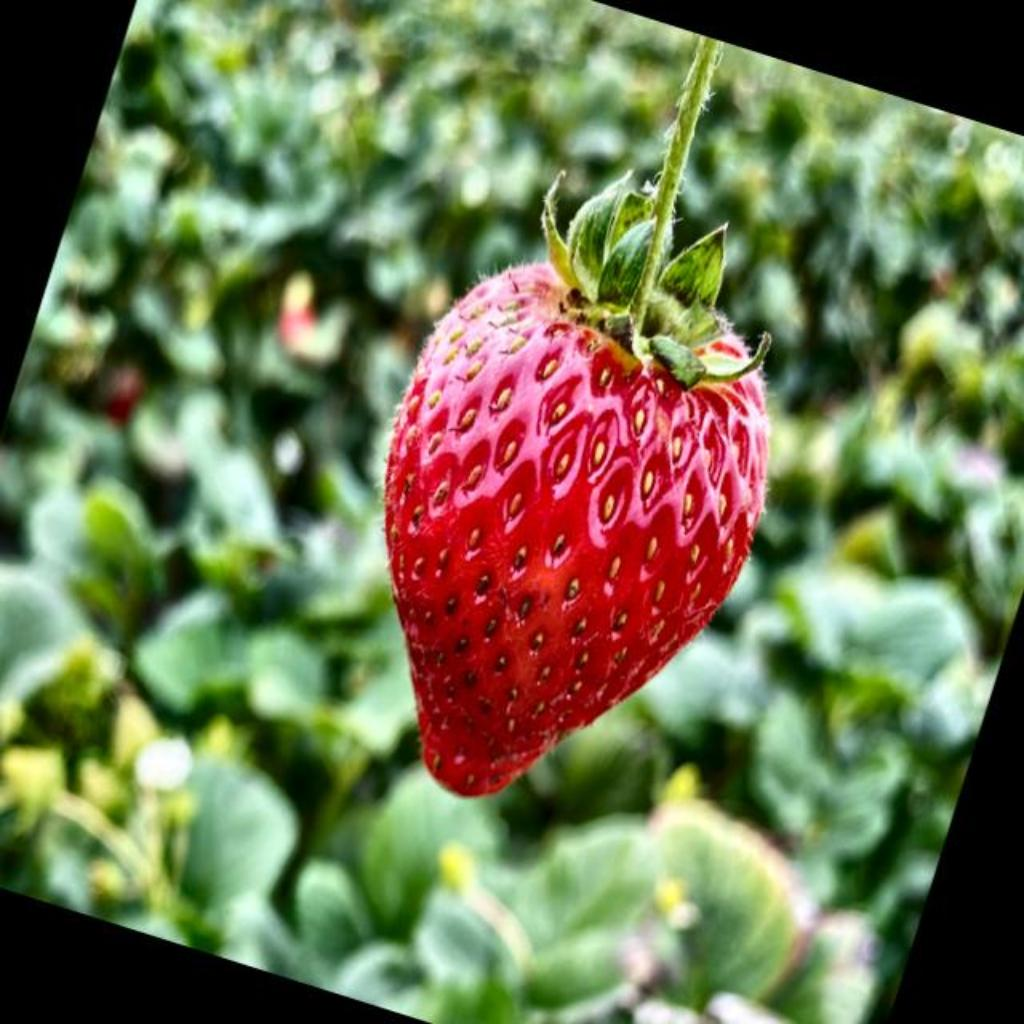strawberry: (386, 40, 768, 796)
